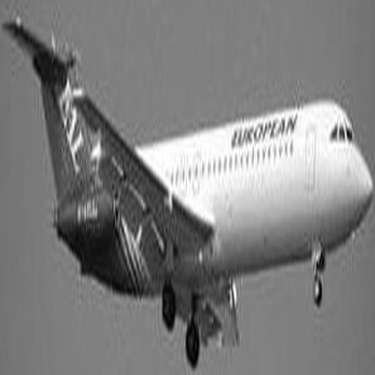airplane: (5, 4, 367, 371)
